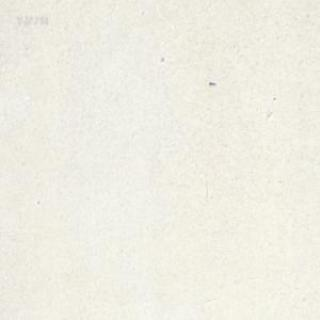Nailtrack_idkeyframe: (208, 80, 215, 85)
